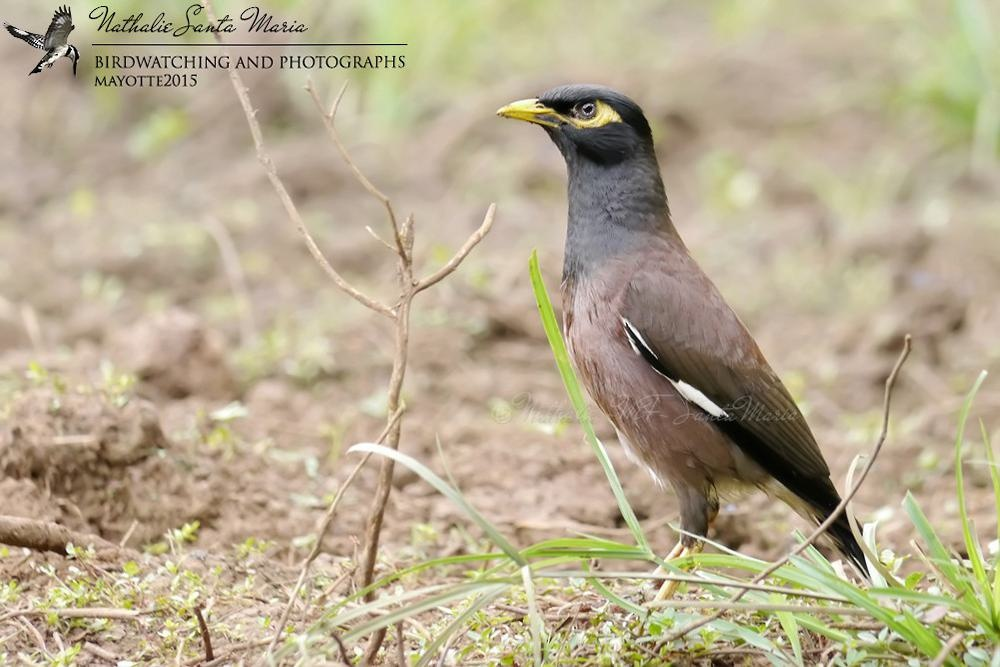myna: (496, 85, 878, 566)
